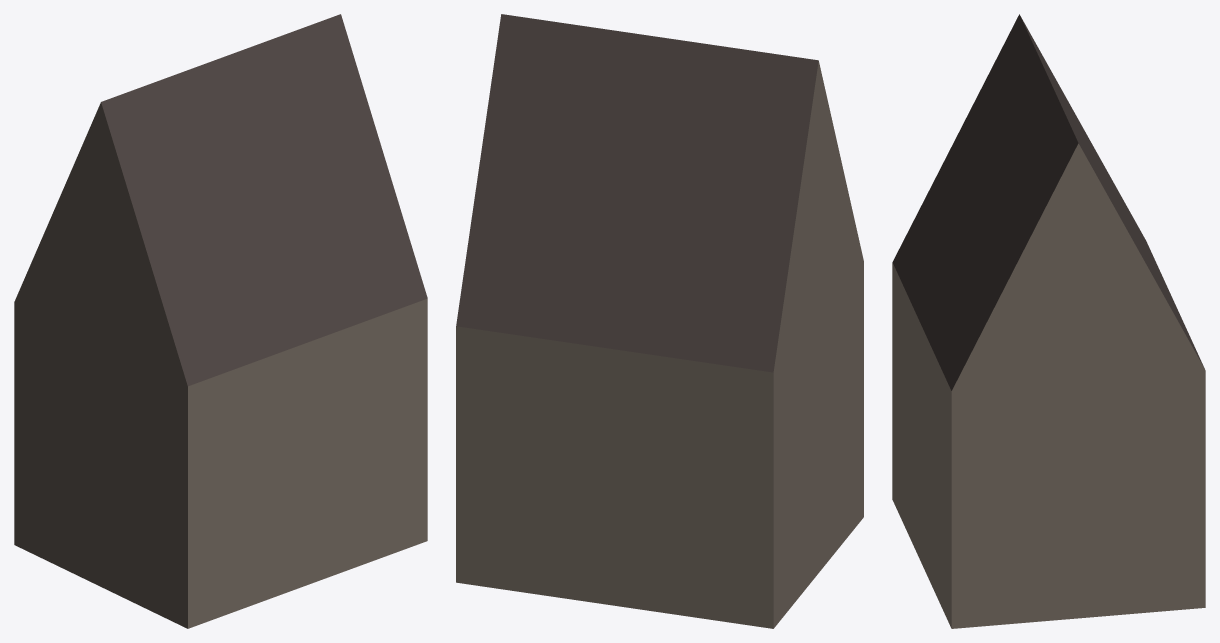
The picture shows the model from 3 angles, left to right: view 1: azimuth 30°, elevation 25°; view 2: azimuth 150°, elevation 25°; view 3: azimuth 270°, elevation 25°; orthographic projection. The views are drawn at different scales.
Visible parts, largest first — view 1: HP-w428196109; view 2: HP-w428196109; view 3: HP-w428196109.
Part boxes in pixels (<box>): HP-w428196109: <box>14,14,427,628</box>; HP-w428196109: <box>456,14,863,628</box>; HP-w428196109: <box>892,14,1205,628</box>.
Size of the model in its own units: 4.07 by 6 by 3.58.
